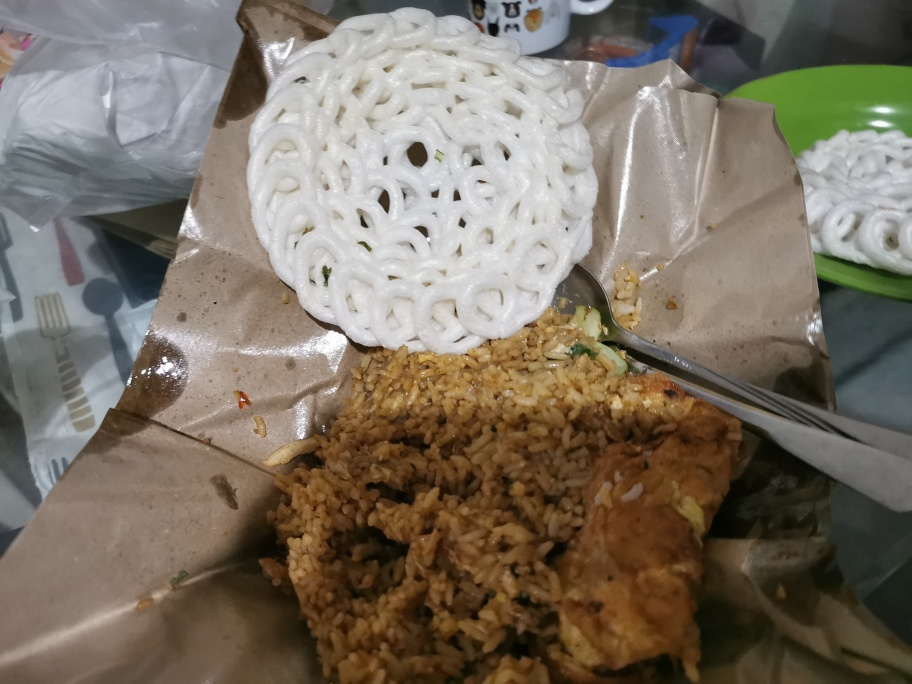kerupuk: (248, 12, 603, 341)
nasi goreng: (258, 348, 741, 684)
